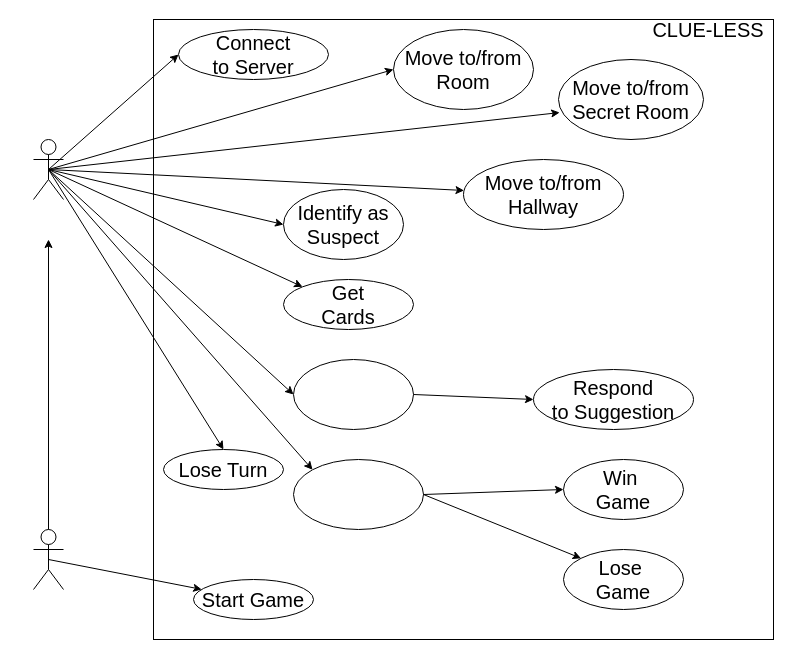
The diagram is 791 pixels wide and 657 high, and some of its shapes have lost their labels. The shapes that lost their labels are listed below. From the top down, each one's centre as x and y in pixels, then its label:
At [48,169]: "Player".
At [353,394]: "Make Suggestion".
At [358,494]: "Make Accusation".
At [48,559]: "Host".
